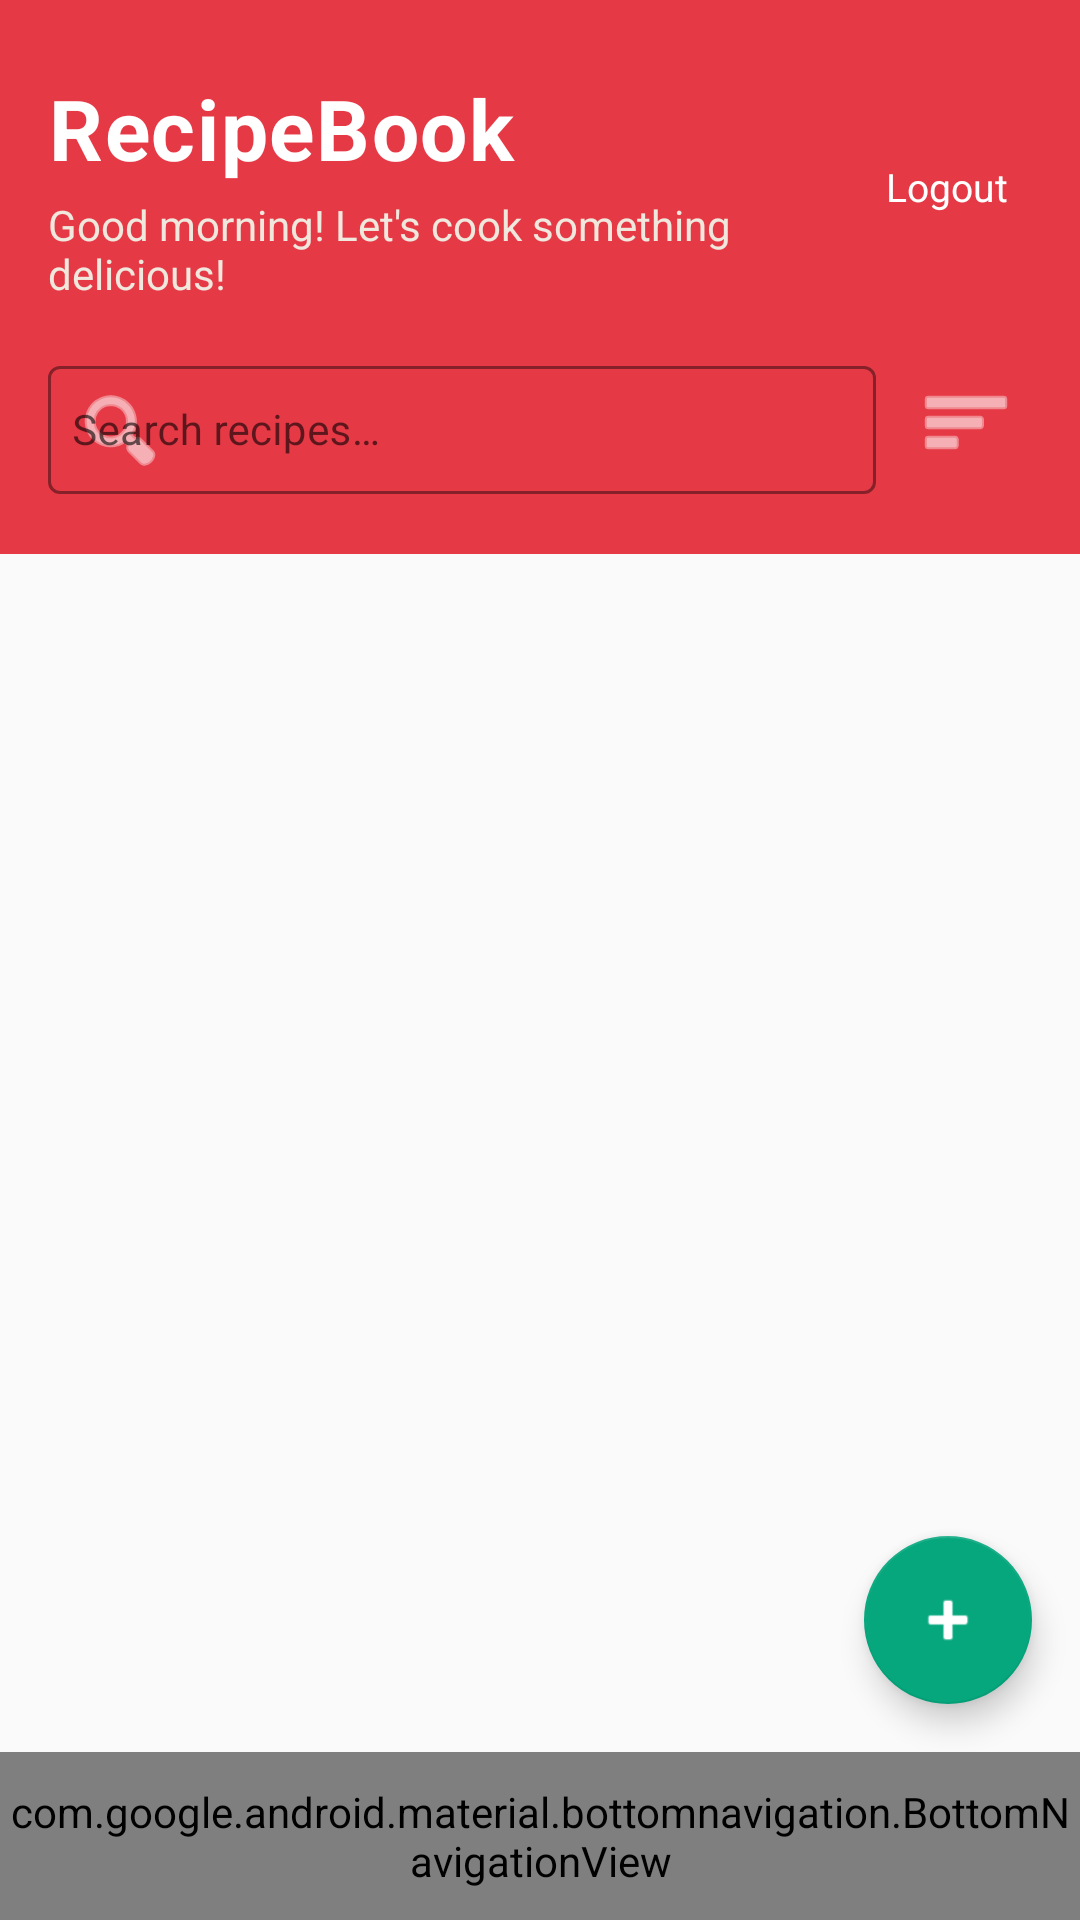

Named icons in this screenshot (1080x1920) and their centers, [x,y]:
Add Recipe: [948,1620]
Sort recipes: [966,422]
